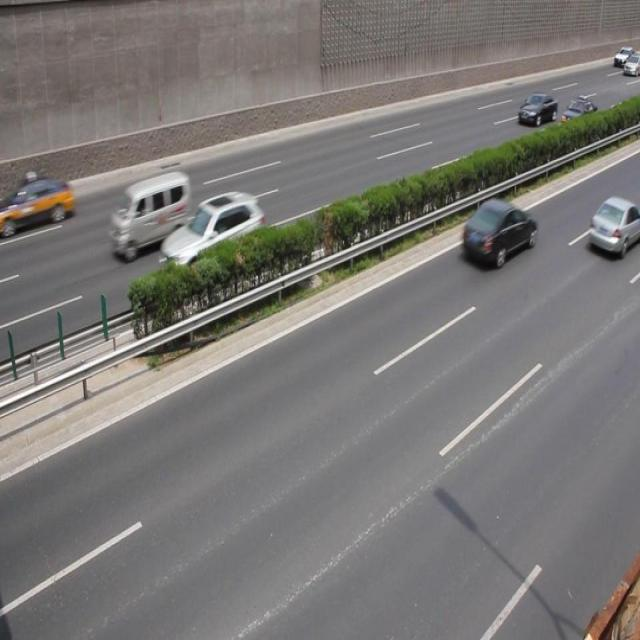car: (160, 190, 266, 294), (461, 199, 534, 267), (10, 170, 74, 234), (586, 193, 640, 254), (560, 95, 598, 130), (516, 92, 556, 125)
truck: (110, 171, 194, 262)
